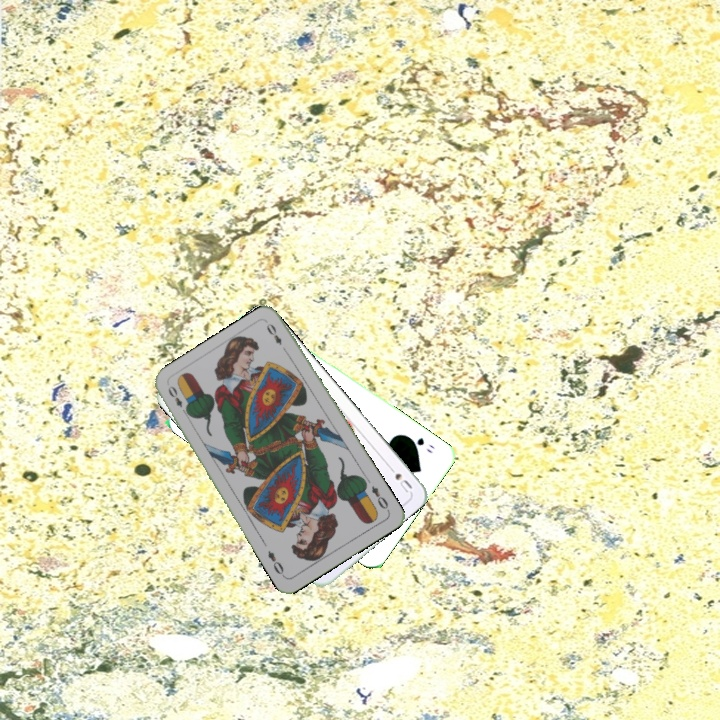EO: (164, 381, 192, 418), (367, 482, 392, 514)
GO: (403, 432, 437, 456)
SU: (383, 461, 415, 495)
